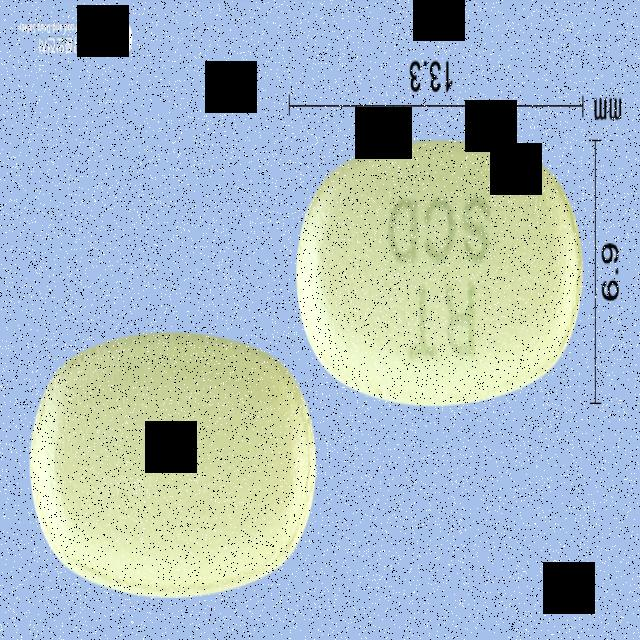Retos Tab: (26, 331, 317, 600), (296, 146, 584, 409)
